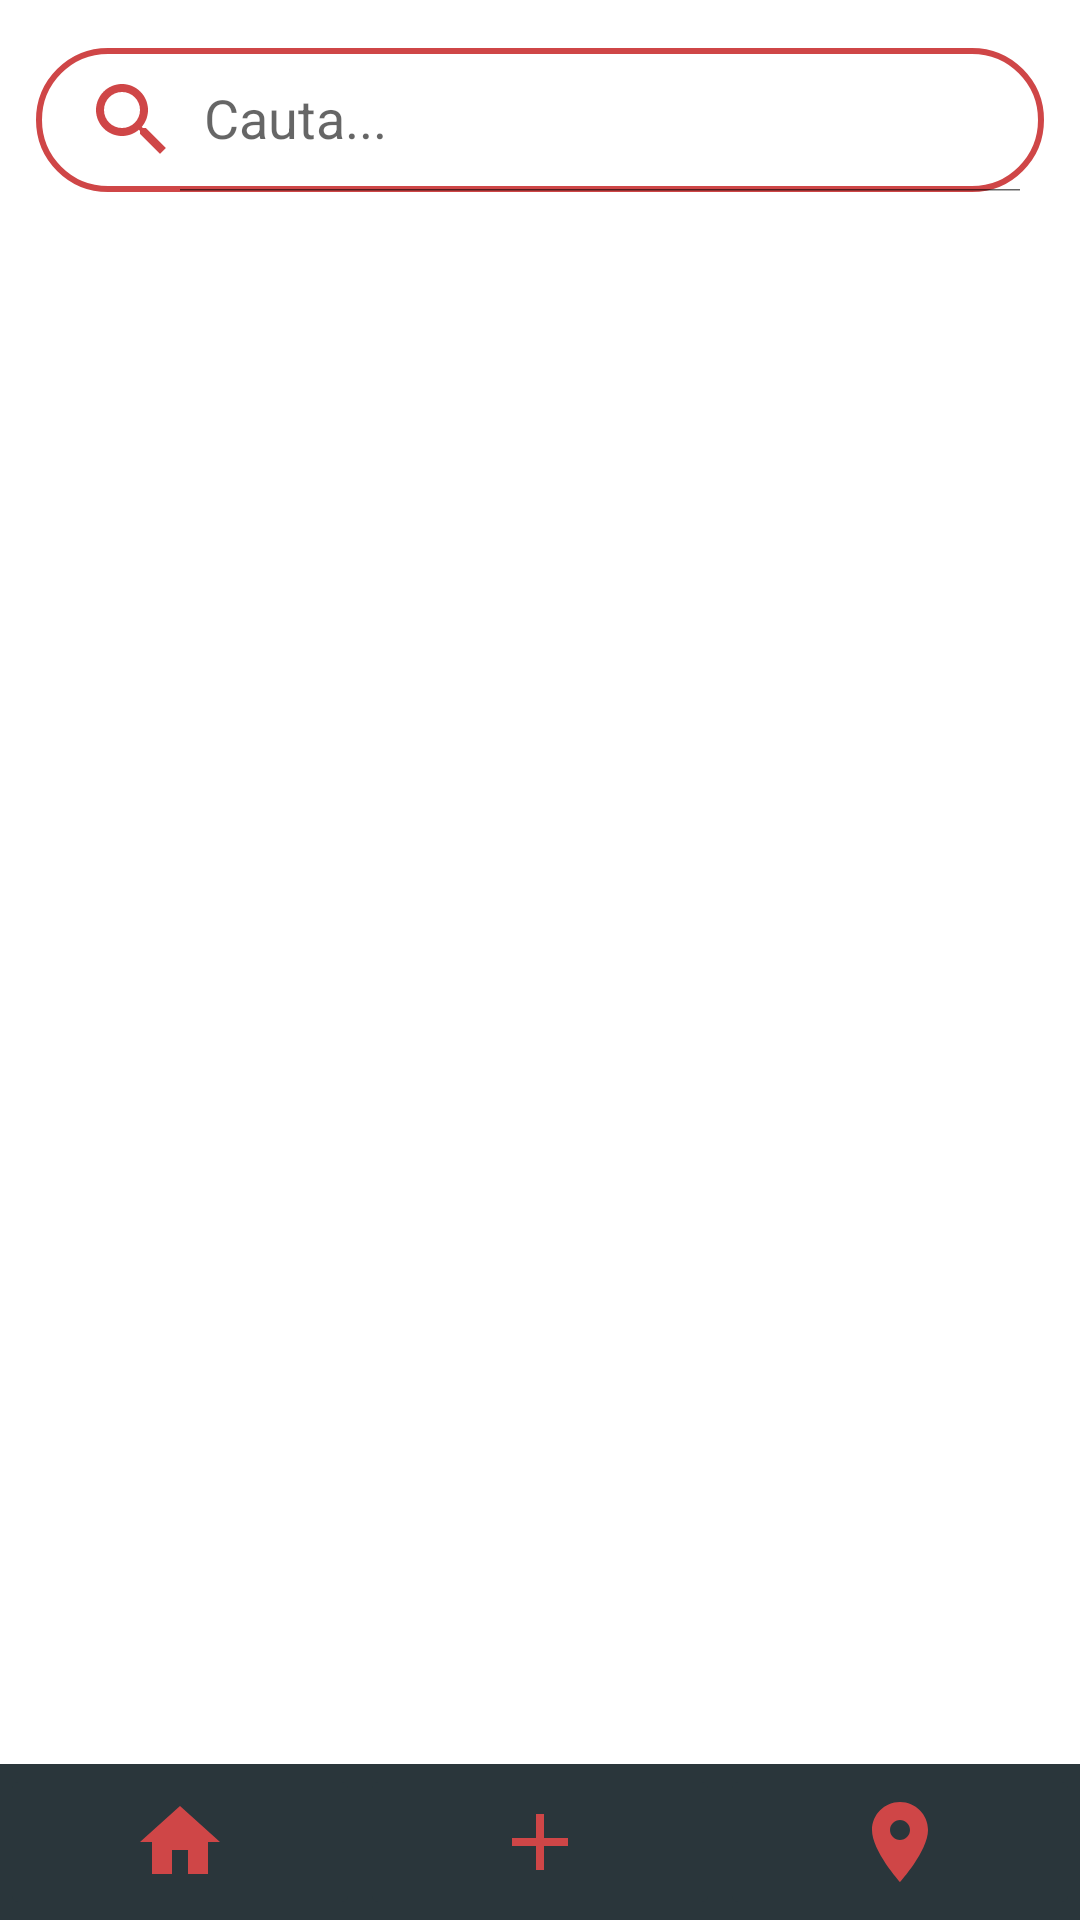

Icons on this 1080x1920 Android screen, each with the point to tap as point (x, y):
add: point (540, 1842)
Home: point (180, 1840)
Map: point (900, 1842)
